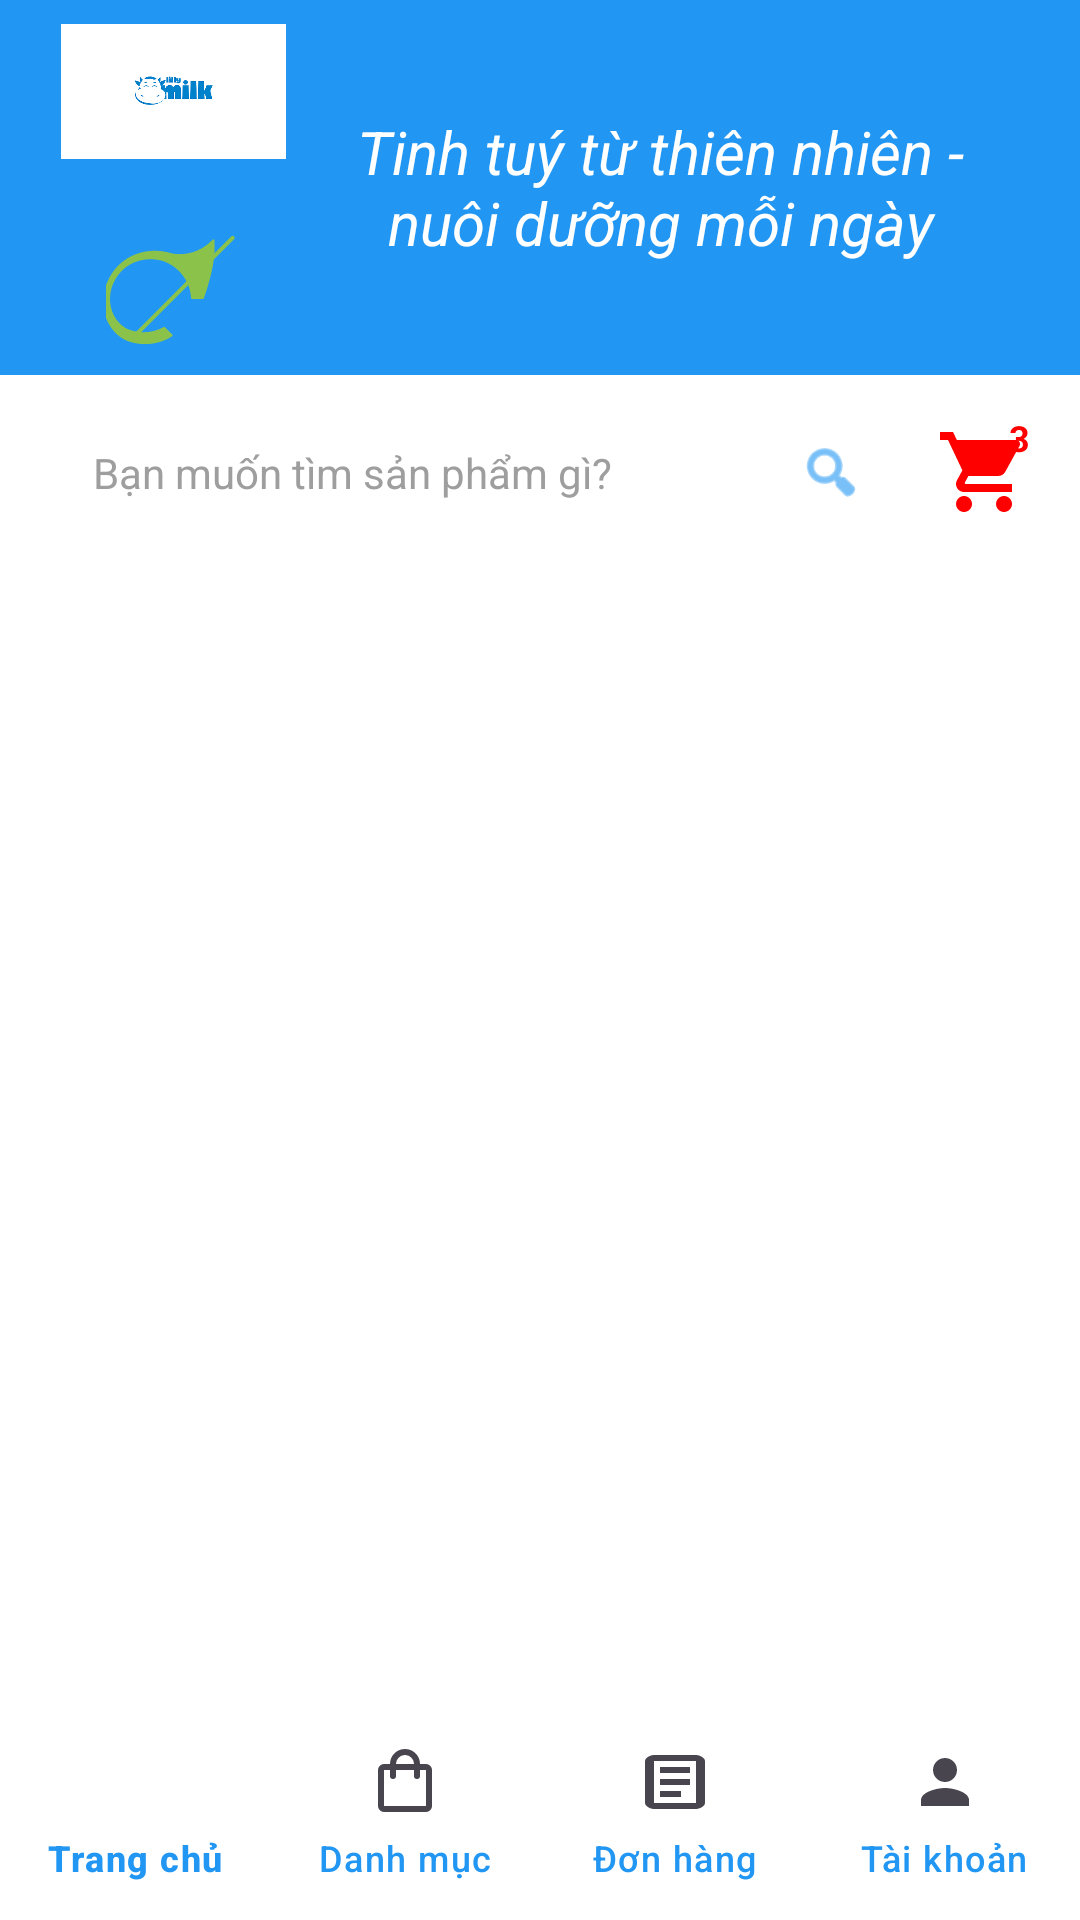

Point at icon controls on the screen. Image size 1080px x 1920px, points as (x=x, y=y).
cart: (x=984, y=469)
search: (x=831, y=472)
